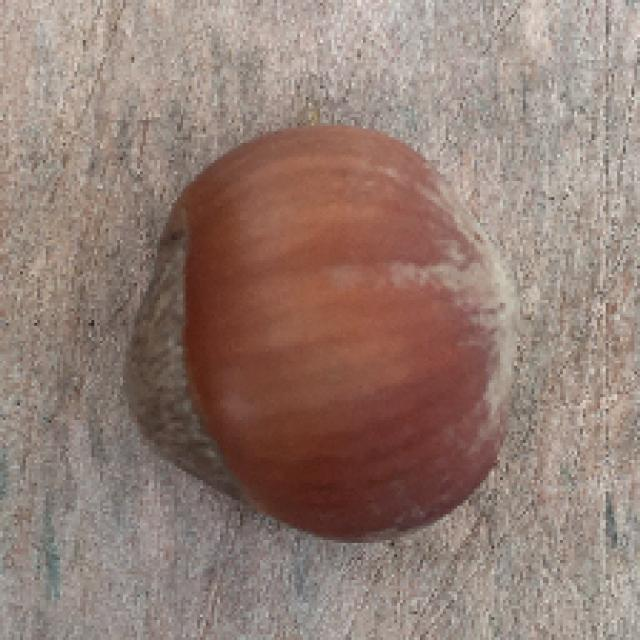DamagedHazelnut: (123, 121, 521, 542)
